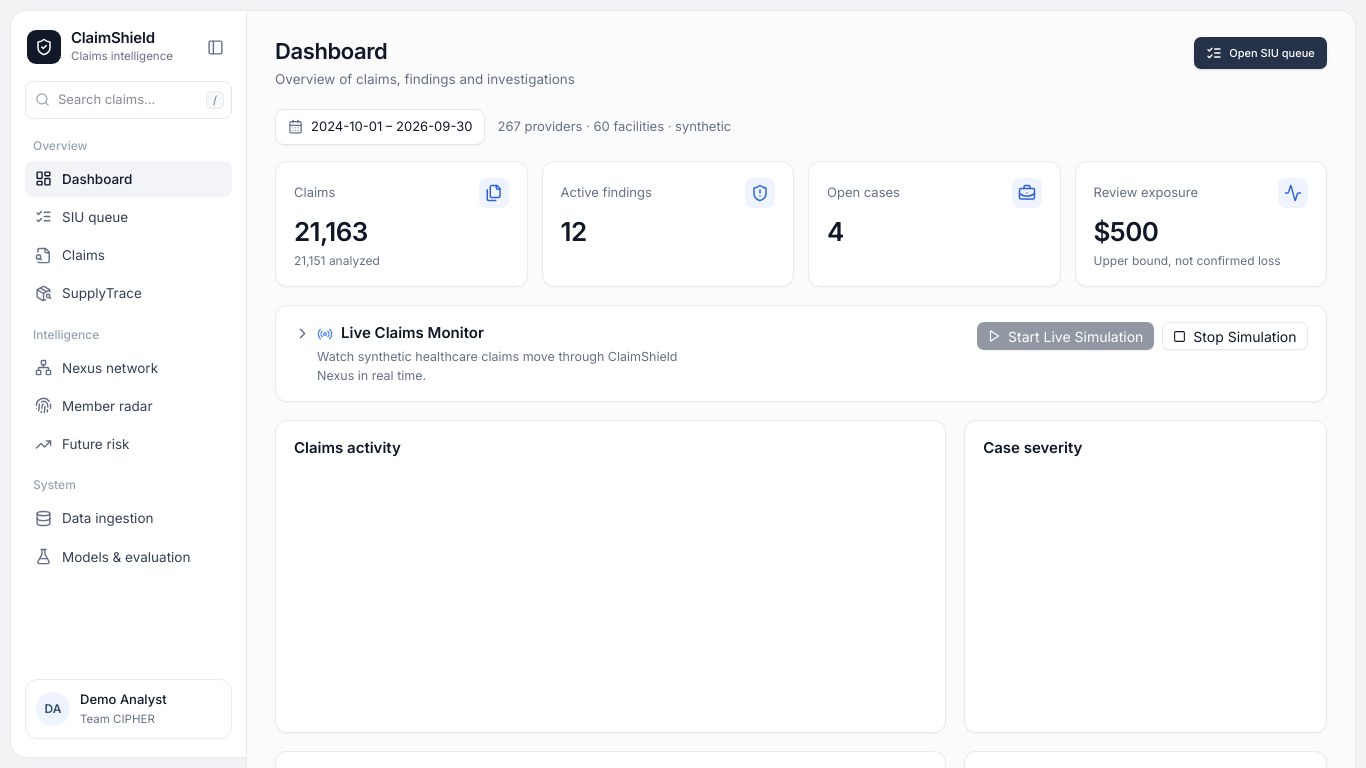
Test: Live Claims Monitor › shows server-side session metrics without conflating counts, and keeps the dashboard
Click the button with aria-label "Show live monitor details" at (389, 334), box [294,322,484,345]
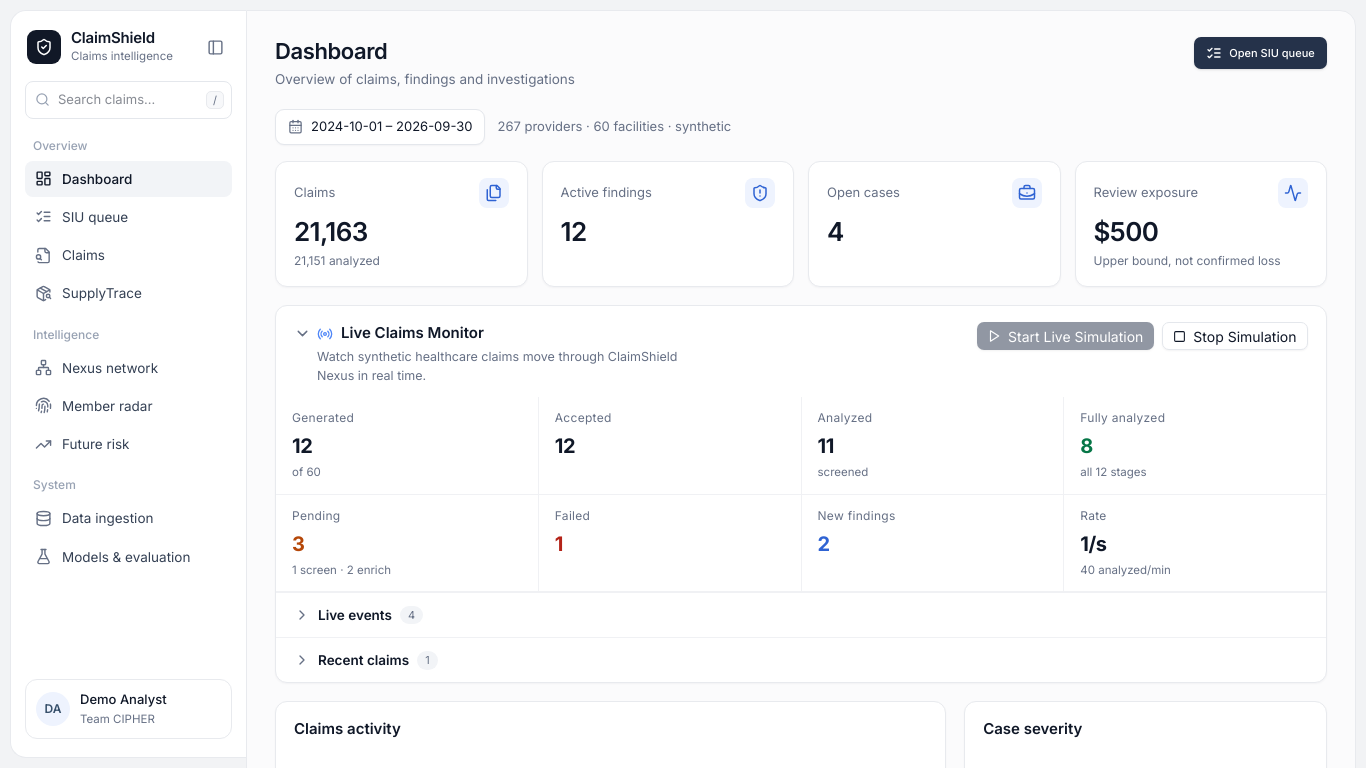
Check: the heading "Live Claims Monitor" is shown, box [317,322,484,345]
Check: the text "Fully analyzed" is shown, box [1080,410,1165,425]
